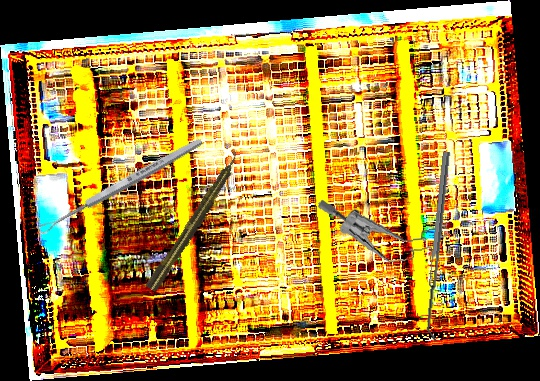Handpiece: (144, 149, 245, 294)
Spatula Surgical: (423, 151, 457, 342)
Speculum: (316, 183, 452, 275)
Surgical Spoon: (35, 135, 205, 237)
